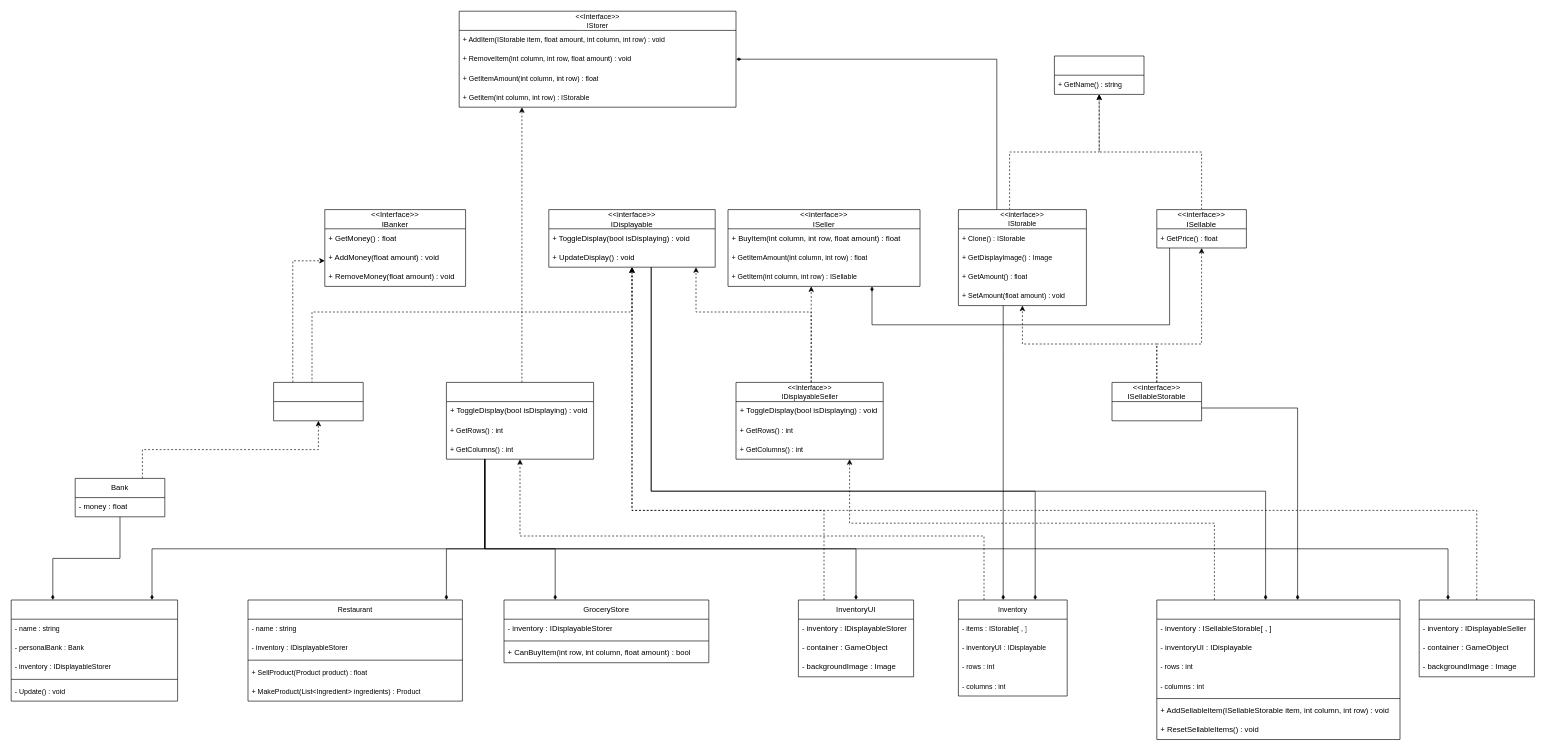
Some shapes in this 1546 by 751 pixel diagram are drawn without their labels. The shapes that lost their labels are listed below. From the top down, each one's box as (x1, y1, x2, y2) in pixels, then its label:
(1054, 55, 1144, 94): <<interface>> IIdentifiable
(273, 382, 363, 421): <<interface>> IDisplayableBanker
(446, 382, 594, 459): <<Interface>> IDisplayableStorer
(11, 599, 178, 701): Player
(1419, 599, 1534, 677): SellerInventoryUI
(1156, 599, 1400, 740): SellerInventory
